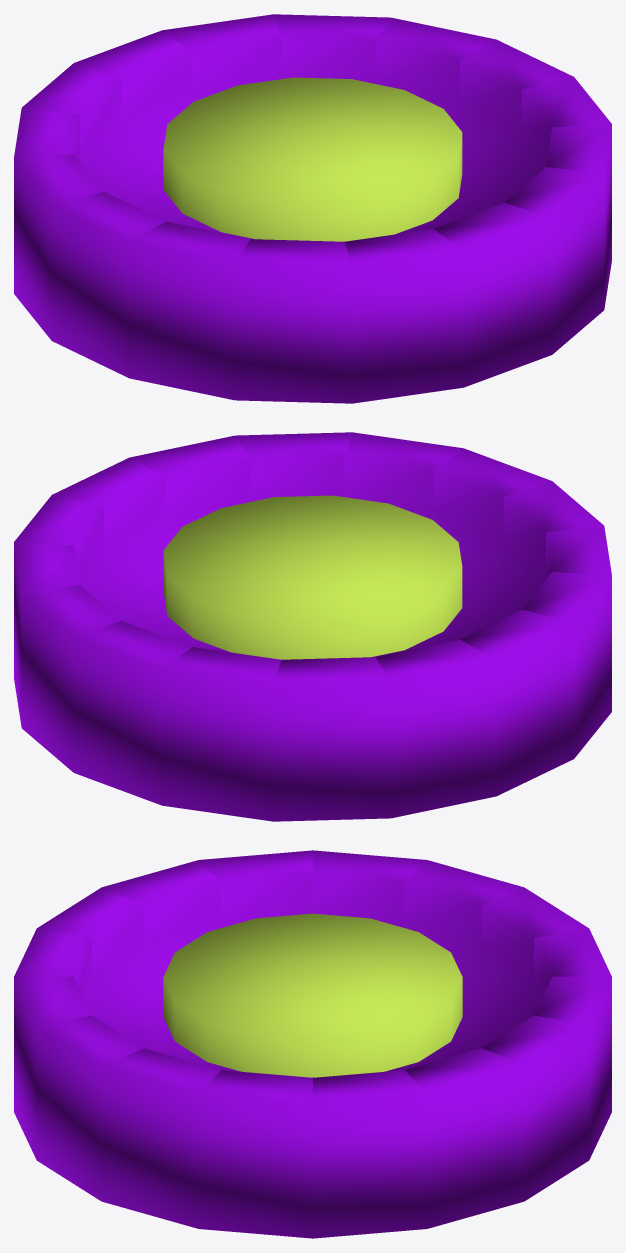
File: static_bonus.fbx
3 renders of one model, top to bottom at view 1: azimuth 30°, elevation 25°; view 2: azimuth 150°, elevation 25°; view 3: azimuth 270°, elevation 25°, orthographic.
Parts seen in each view (by area): view 1: Cylinder; view 2: Cylinder; view 3: Cylinder.
Part boxes in pixels (<box>): Cylinder: <box>14,14,611,403</box>; Cylinder: <box>14,432,611,821</box>; Cylinder: <box>14,850,611,1238</box>.
Bounding box in the file's own units: 2 × 0.5 × 2.
